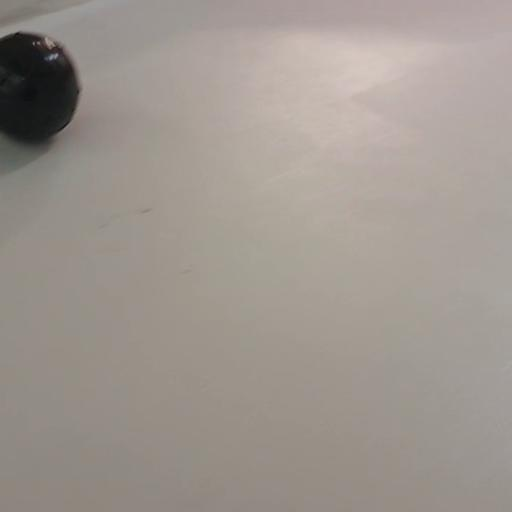dead: (0, 31, 81, 143)
